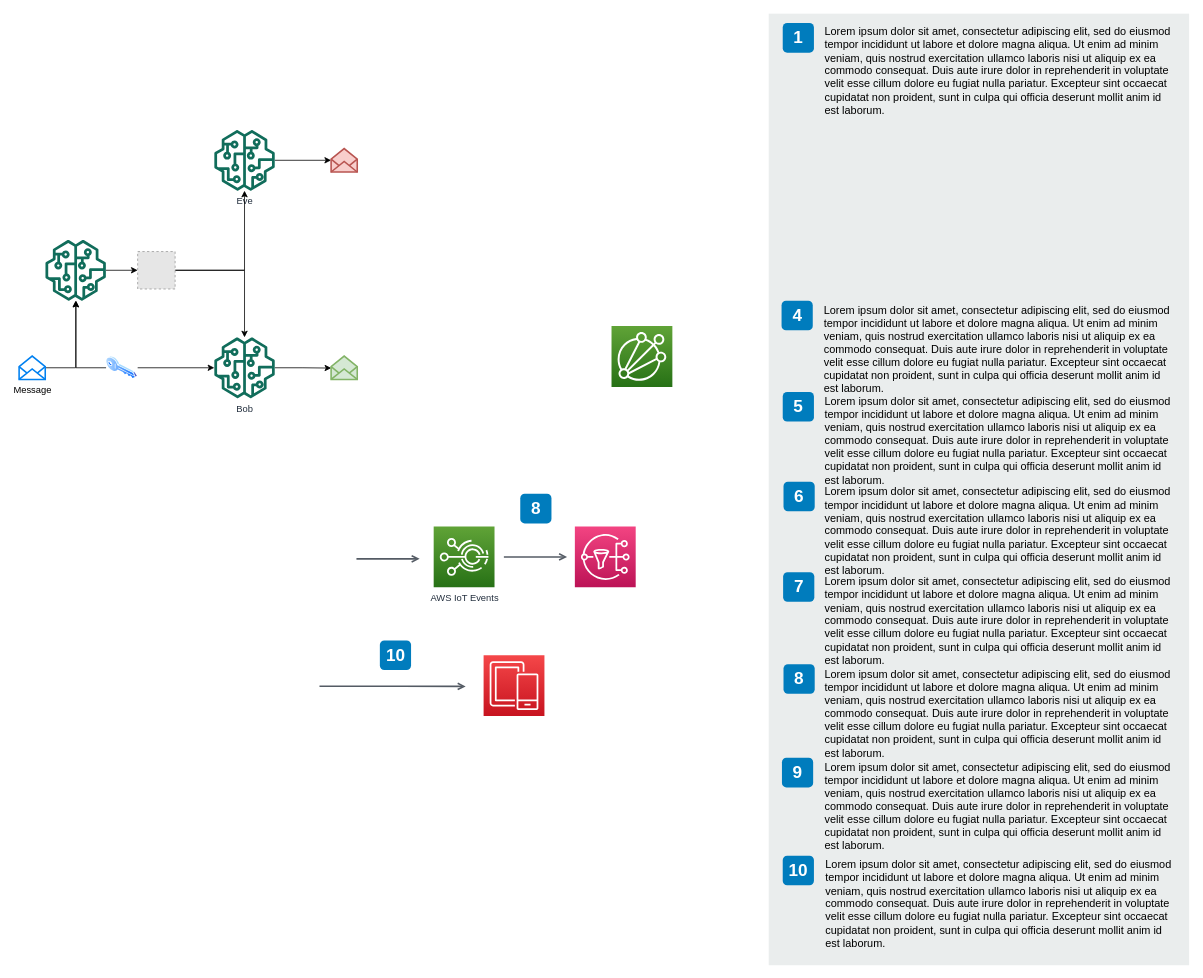
The diagram is 1203 pixels wide and 978 high, and some of its shapes have lost their labels. Grey dashed boxes stand in for pictures. Each missing label, with the box of its shape:
Alice: (45, 239, 106, 300)
Amazon SNS: (574, 526, 636, 587)
AWS IoT Analytics: (611, 325, 672, 387)
Key: (106, 356, 137, 379)
Message Bob: (330, 355, 358, 380)
Message Eve: (330, 147, 358, 172)
Mobile Application: (483, 654, 544, 716)
